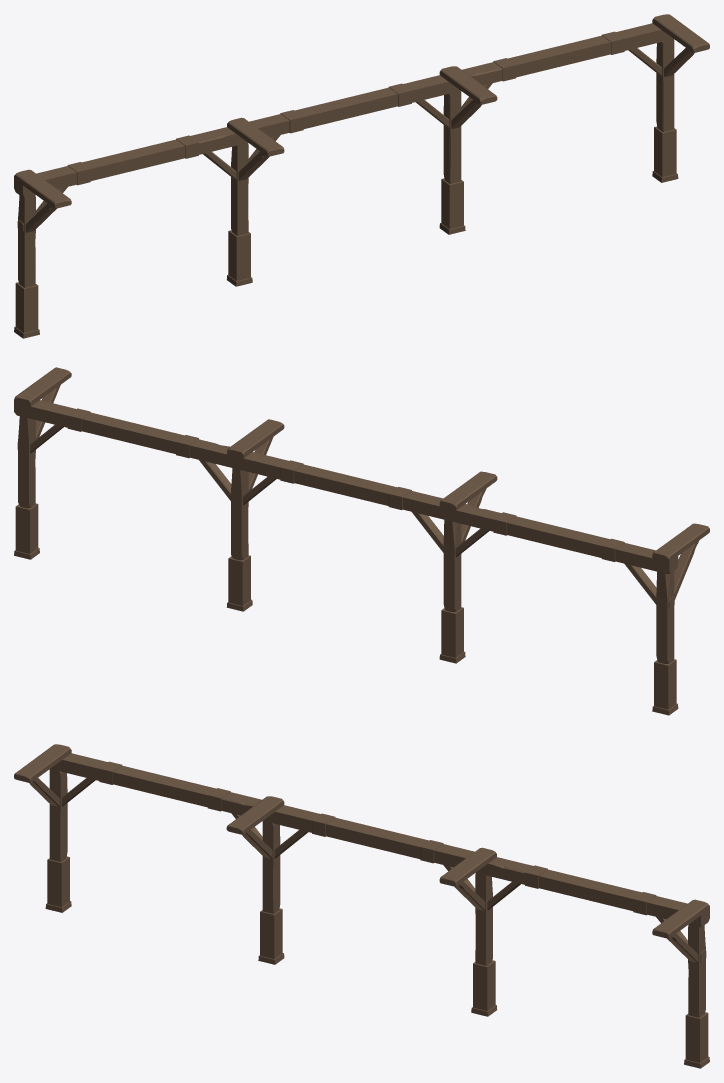
File: Pillar-M01A.fbx
The picture shows the model from 3 angles, top to bottom: view 1: azimuth 30°, elevation 25°; view 2: azimuth 150°, elevation 25°; view 3: azimuth 330°, elevation 25°; orthographic projection.
Visible parts, largest first — view 1: Pillar-M01A; view 2: Pillar-M01A; view 3: Pillar-M01A.
Part boxes in pixels (x1,y1,x2,y2): Pillar-M01A: [14, 14, 709, 338]; Pillar-M01A: [14, 367, 709, 715]; Pillar-M01A: [14, 744, 709, 1068].
Size of the model in its own units: 1540 by 357 by 168.
